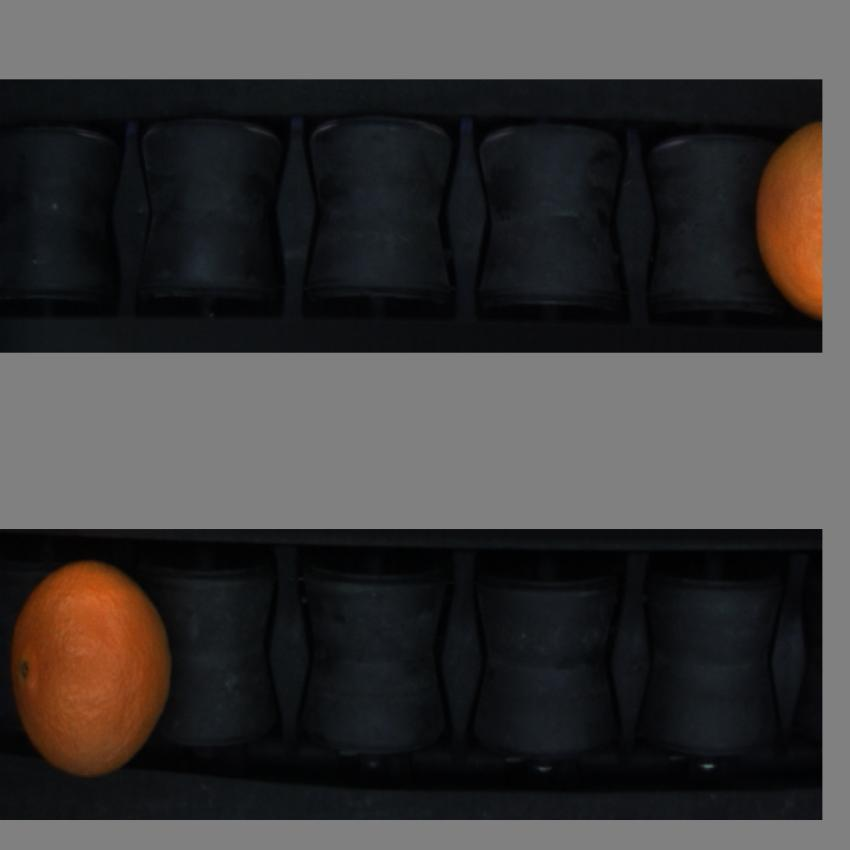Buen estado: (11, 566, 182, 784), (751, 119, 823, 332)
